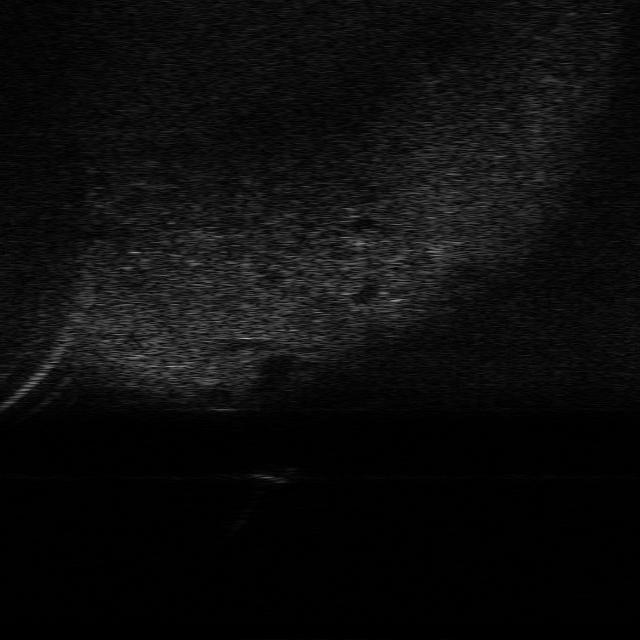cube: (252, 460, 298, 486)
